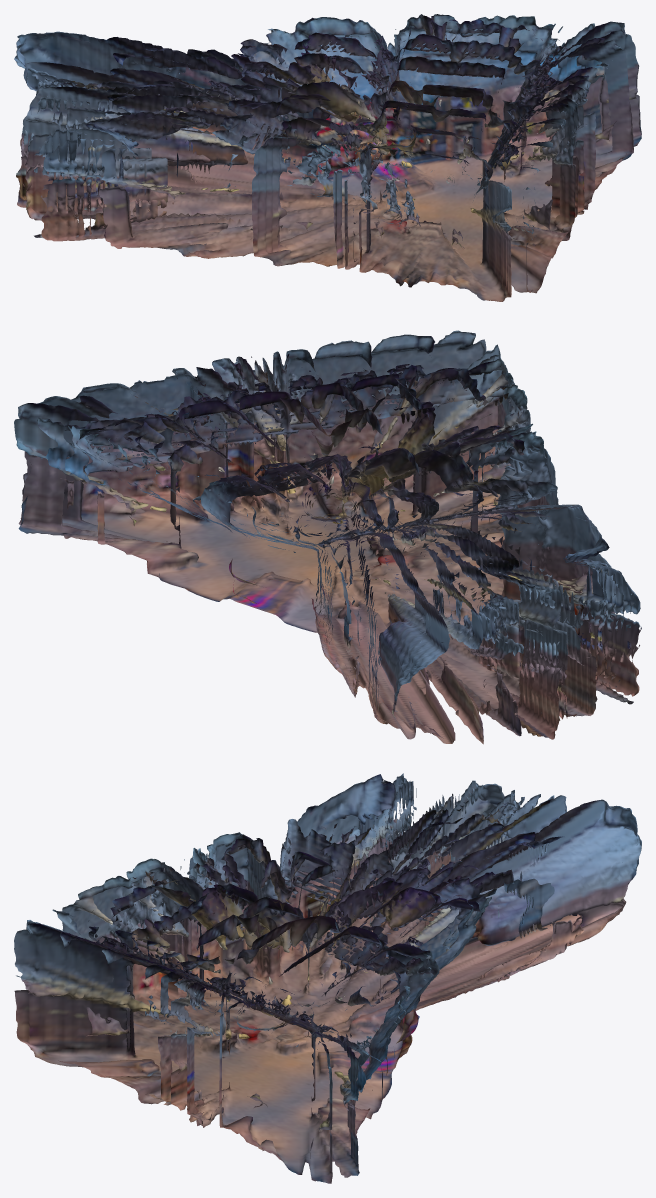
Rendered from warehouse_hangout_collider.glb.
3 renders of one model, top to bottom at view 1: azimuth 30°, elevation 25°; view 2: azimuth 150°, elevation 25°; view 3: azimuth 270°, elevation 25°, orthographic. The views are drawn at different scales.
Visible parts, largest first — view 1: world; view 2: world; view 3: world.
Part boxes in pixels (left/top/right/bottom): world: left=14, top=14, right=641, bottom=301; world: left=14, top=330, right=641, bottom=744; world: left=14, top=773, right=641, bottom=1183.
Bounding box in the file's own units: 39.71 × 9.26 × 35.34.
